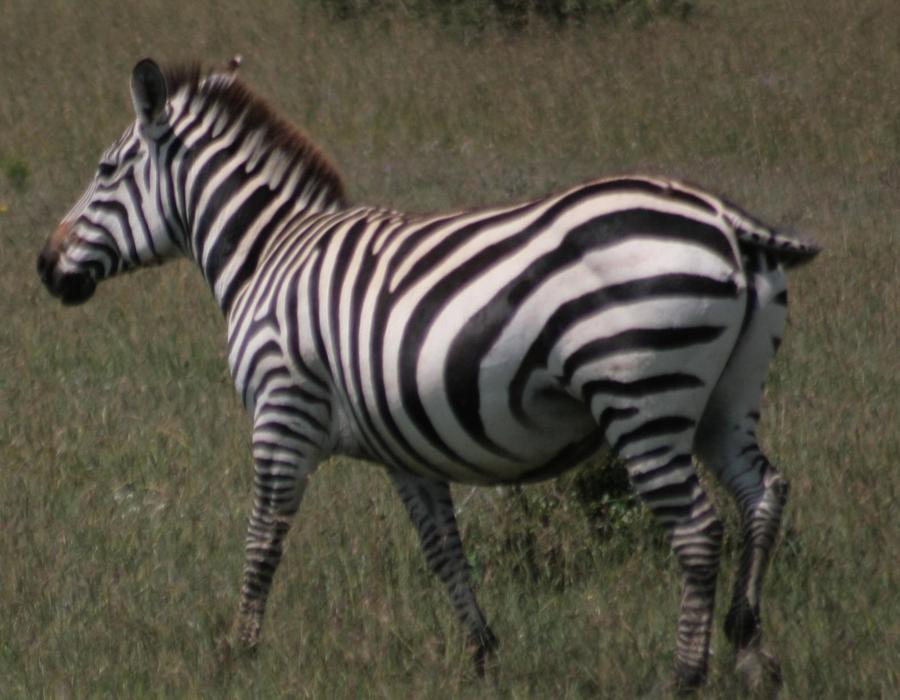zebra_plains: (210, 165, 712, 498)
